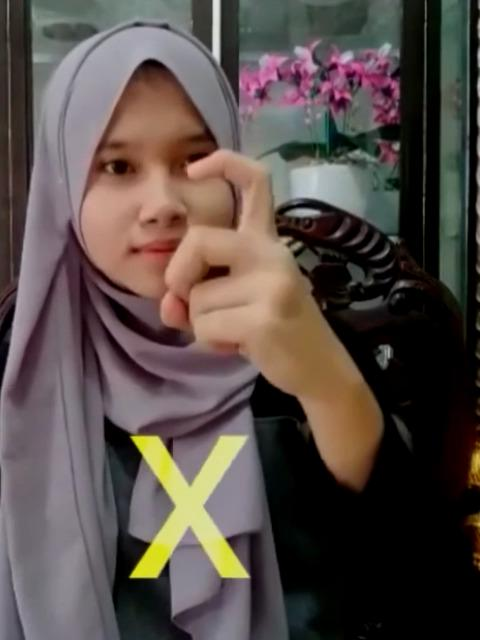X: (152, 150, 316, 396)
